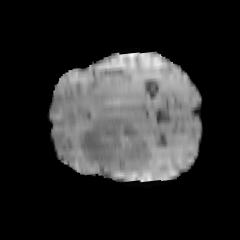glioma: (79, 119, 151, 172)
